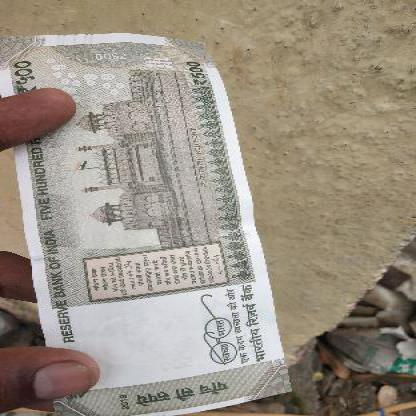New500Back: (0, 33, 286, 413)
